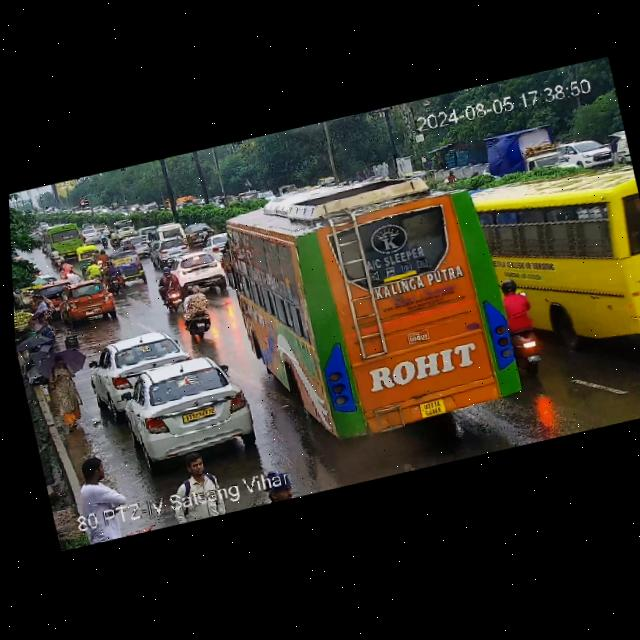bus: (213, 215, 527, 474), (476, 159, 640, 414), (42, 219, 89, 257)
car: (97, 349, 258, 474), (86, 326, 188, 396), (56, 278, 118, 325), (174, 248, 228, 296), (148, 236, 191, 262), (113, 254, 145, 285), (37, 275, 74, 301), (149, 219, 187, 244), (121, 232, 153, 258), (204, 232, 228, 265), (109, 222, 142, 243), (184, 220, 214, 243), (75, 243, 94, 272), (81, 225, 107, 244)
motorcycle: (493, 269, 547, 374), (178, 282, 220, 342), (155, 264, 190, 310), (57, 256, 80, 288), (102, 258, 121, 293), (83, 258, 107, 282), (48, 245, 67, 265), (93, 246, 110, 263), (121, 236, 134, 250)
person: (70, 453, 128, 521), (162, 450, 230, 502), (48, 349, 88, 430), (18, 345, 56, 395), (30, 292, 60, 335), (262, 468, 294, 504)
